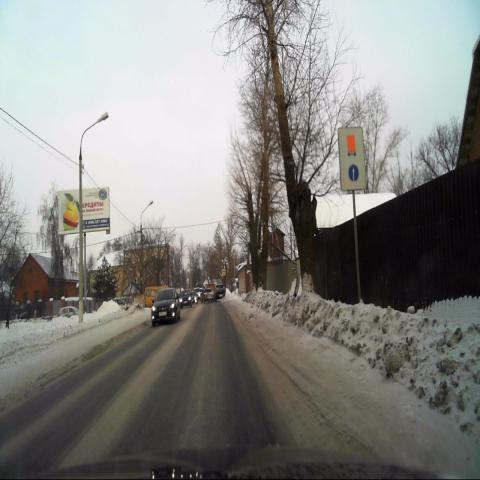4_8_2: (338, 125, 366, 191)
